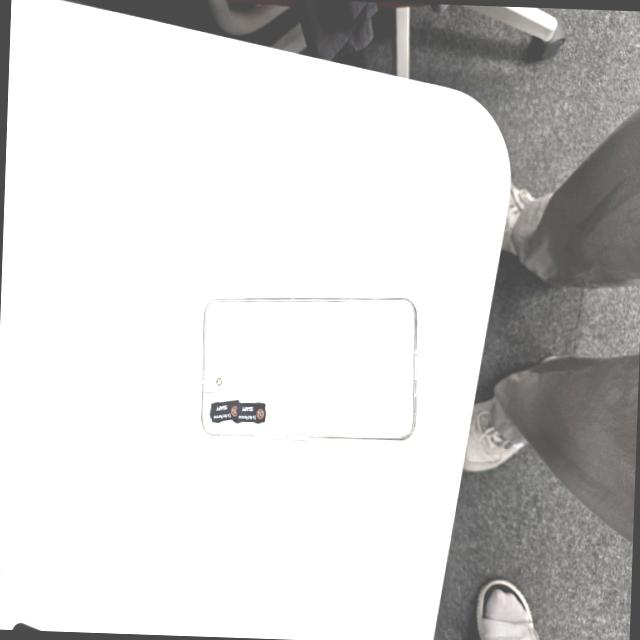phone: (199, 288, 422, 446)
sticker: (237, 402, 266, 422), (210, 402, 238, 421)
